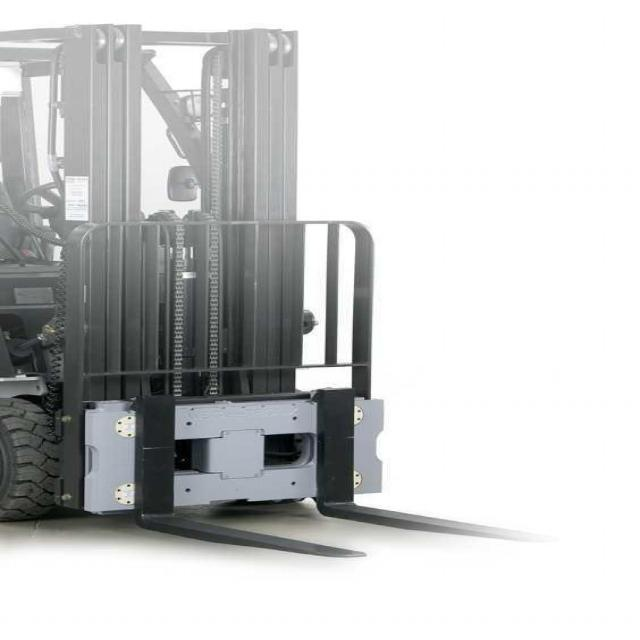Chariot elevateur: (0, 0, 540, 558)
